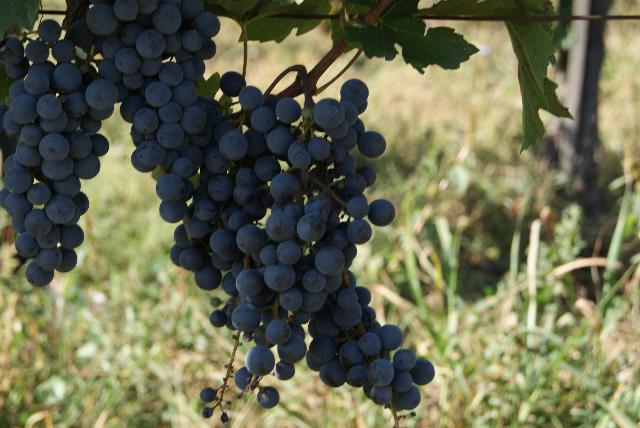grapes: (229, 80, 430, 410), (0, 20, 118, 286), (156, 72, 314, 270), (86, 0, 220, 171)
